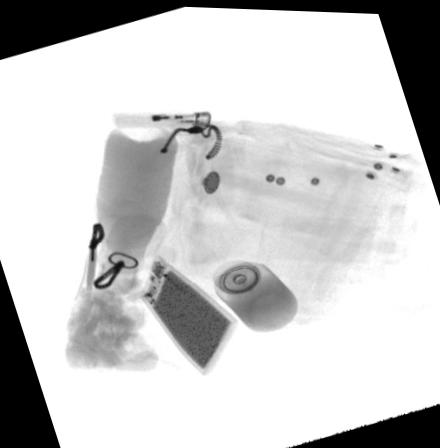Lighter: (113, 109, 211, 130)
Powerbank: (140, 254, 239, 374)
Sprayer: (214, 259, 298, 330)
